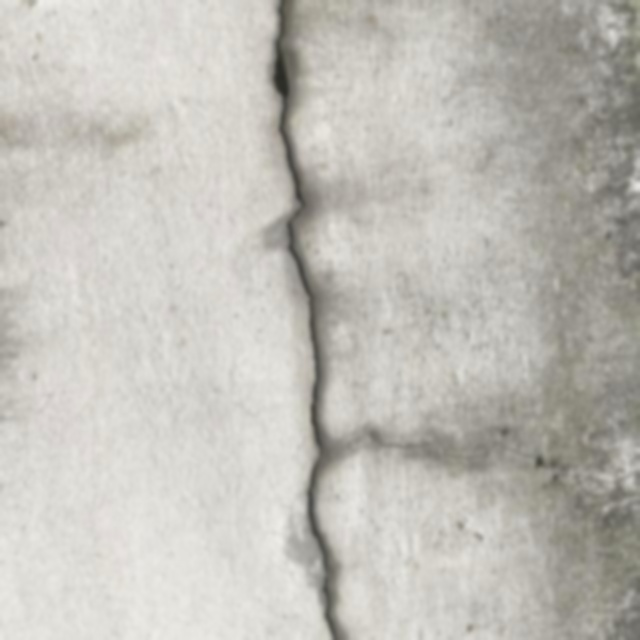SurfaceCrack: (232, 1, 383, 640)
